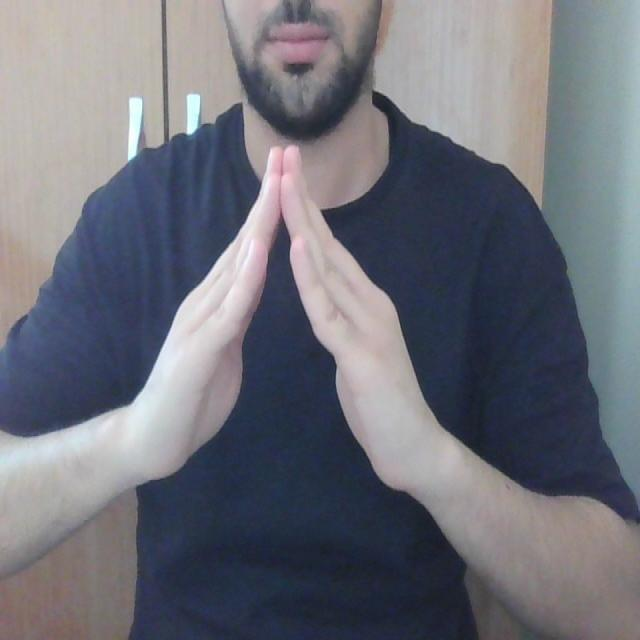Ev: (127, 134, 436, 503)
